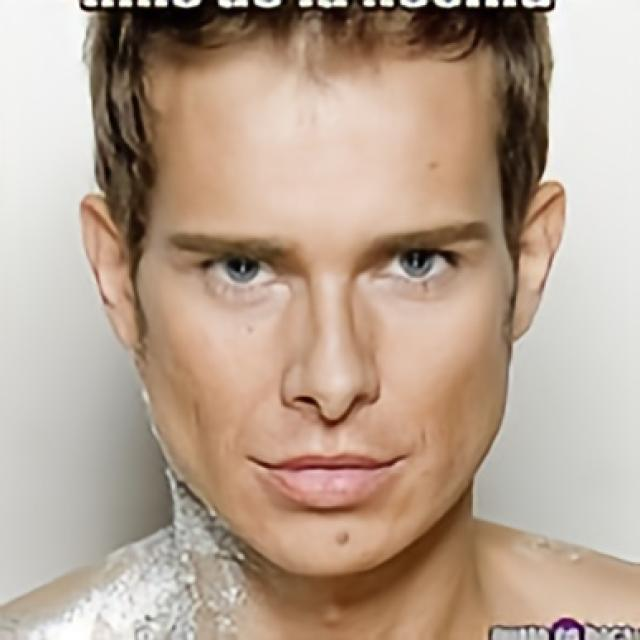content: (139, 60, 511, 572)
